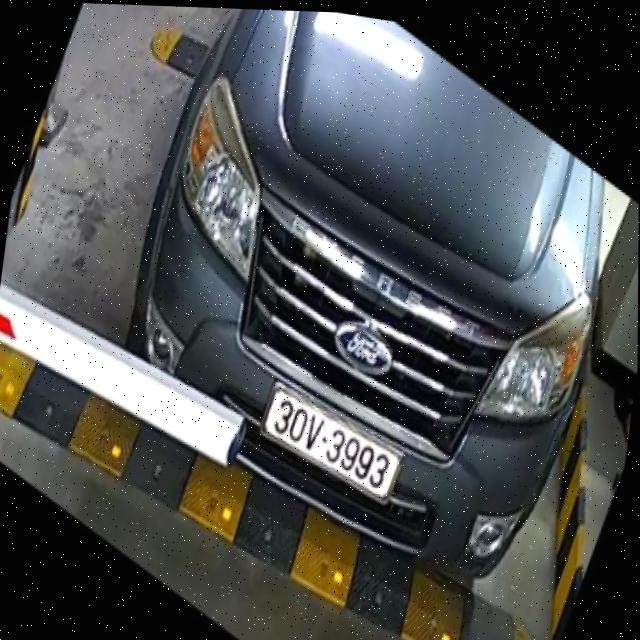car: (95, 4, 629, 594)
plate: (251, 377, 411, 511)
